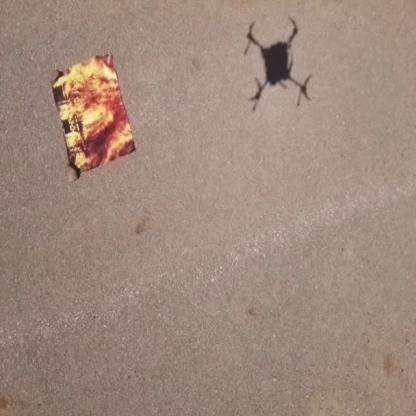fire-poster: (50, 50, 136, 178)
